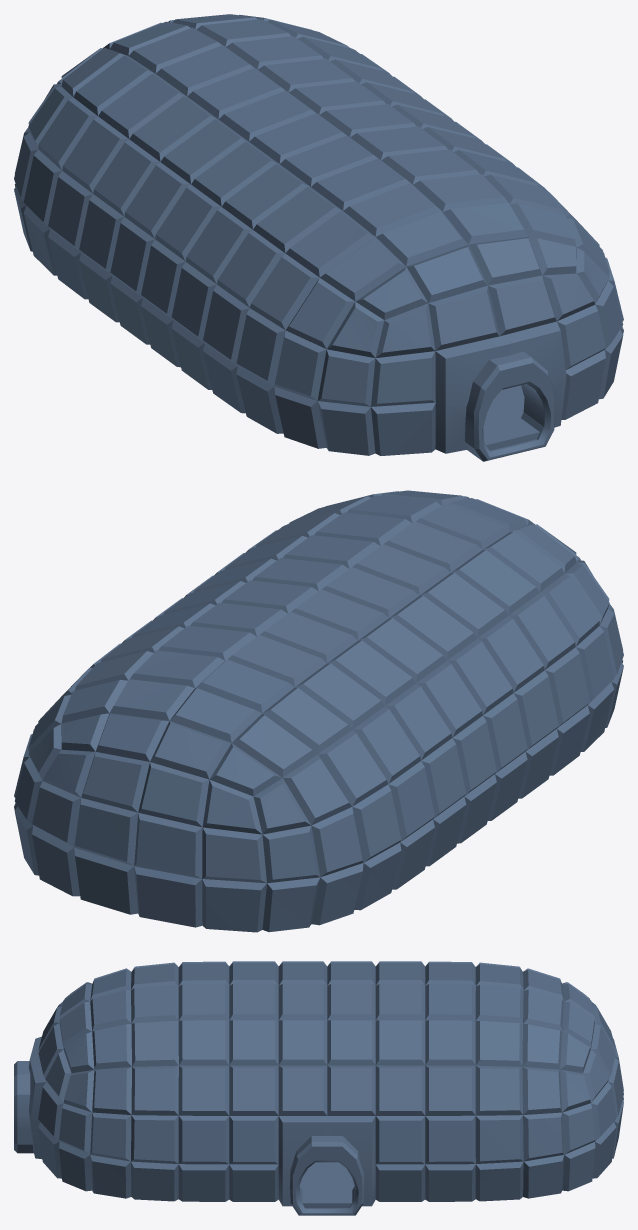
Rendered from building_2_two_inputs.fbx.
3 renders of one model, top to bottom at view 1: azimuth 30°, elevation 25°; view 2: azimuth 150°, elevation 25°; view 3: azimuth 270°, elevation 25°, orthographic. The views are drawn at different scales.
Visible parts, largest first — view 1: building_2_single_input.004, building_2_single_input.007, building_2_single_input.005; view 2: building_2_single_input.004; view 3: building_2_single_input.004, building_2_single_input.008, building_2_single_input.005, building_2_single_input.007.
Boxes of the visible parts, x1=… form: building_2_single_input.004: x1=14, y1=14, x2=623, y2=455; building_2_single_input.007: x1=465, y1=351, x2=554, y2=461; building_2_single_input.005: x1=483, y1=385, x2=539, y2=450; building_2_single_input.004: x1=14, y1=490, x2=623, y2=932; building_2_single_input.004: x1=28, y1=961, x2=623, y2=1206; building_2_single_input.008: x1=290, y1=1136, x2=364, y2=1215; building_2_single_input.005: x1=299, y1=1162, x2=354, y2=1208; building_2_single_input.007: x1=14, y1=1061, x2=33, y2=1153.
Bounding box in the file's own units: 669 × 341 × 1184.
